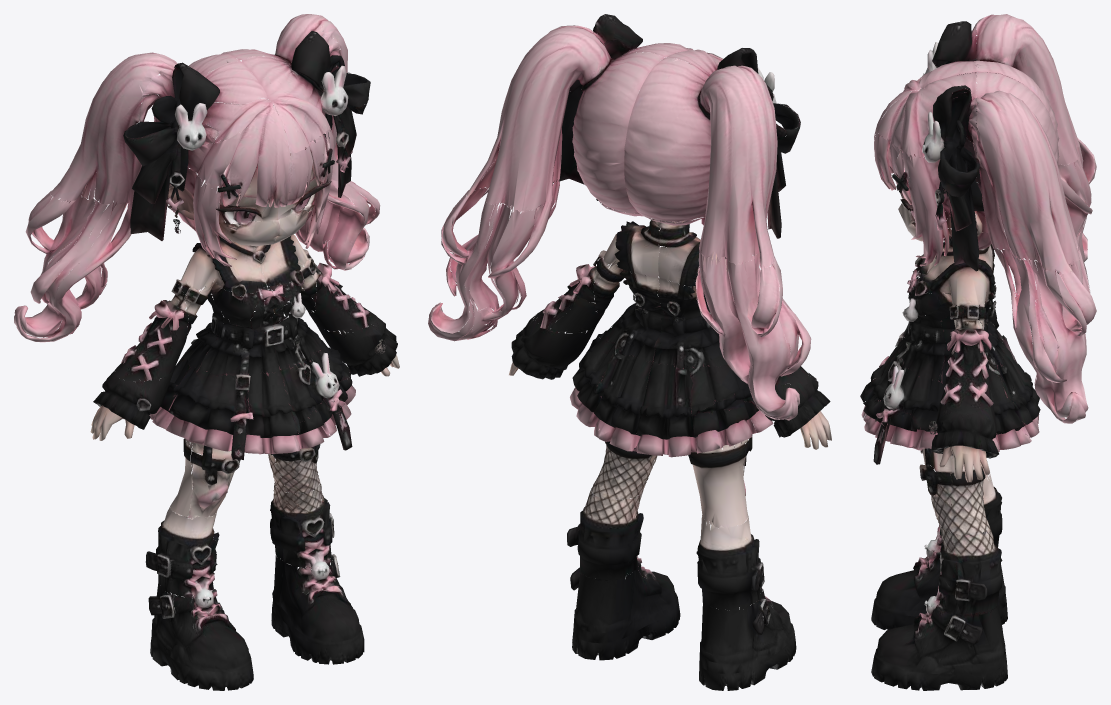
Rendered from studio-visitor-ribbon-standing-v5.glb.
3 views of the same model, side by side, from view 1: azimuth 30°, elevation 25°; view 2: azimuth 150°, elevation 25°; view 3: azimuth 270°, elevation 25° (orthographic). The views are drawn at different scales.
Visible parts, largest first — view 1: ribbon_continuous_body; view 2: ribbon_continuous_body; view 3: ribbon_continuous_body.
Boxes of the visible parts, <box> form: ribbon_continuous_body: <box>14,14,399,690</box>; ribbon_continuous_body: <box>428,14,831,690</box>; ribbon_continuous_body: <box>860,14,1096,690</box>.
Size of the model in its own units: 0.58 by 0.9479 by 0.3411.
5 materials, 5 textured.
